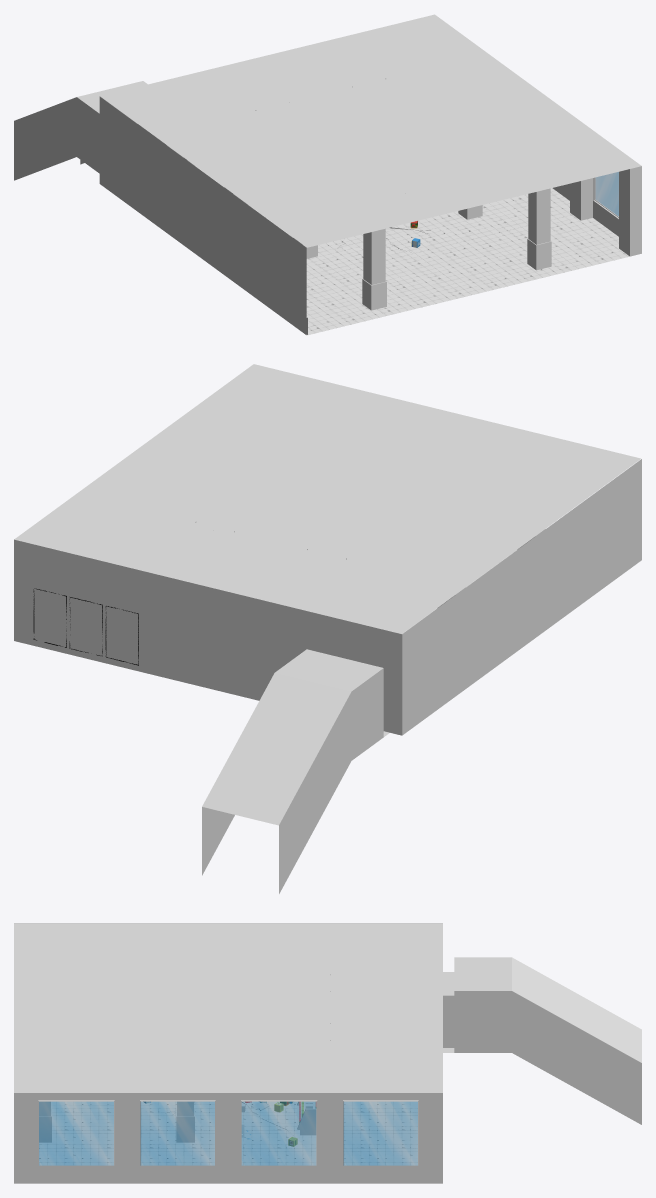
The model's file is BG_special_01_import_join.fbx.
3 renders of one model, top to bottom at view 1: azimuth 30°, elevation 25°; view 2: azimuth 150°, elevation 25°; view 3: azimuth 270°, elevation 25°, orthographic. The views are drawn at different scales.
Visible parts, largest first — view 1: Obj; view 2: Obj; view 3: Obj.
Boxes of the visible parts, x1,y1,x2,y2 form: Obj: [14, 14, 641, 335]; Obj: [14, 364, 641, 893]; Obj: [14, 923, 641, 1183].
Size of the model in its own units: 1410 by 632 by 2196.
